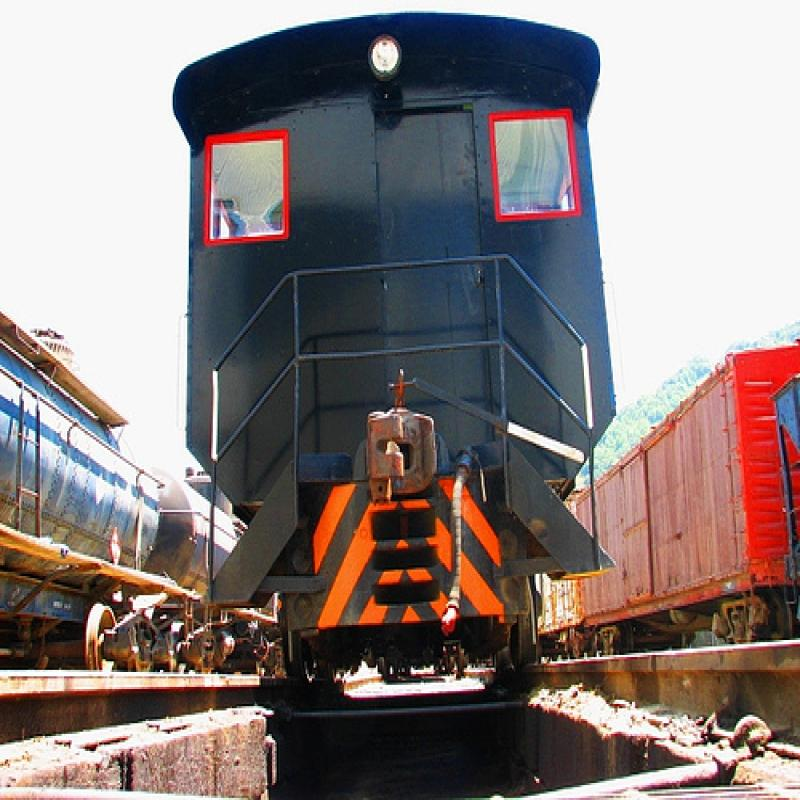train: (171, 8, 619, 707), (1, 304, 281, 675), (534, 332, 799, 667)
